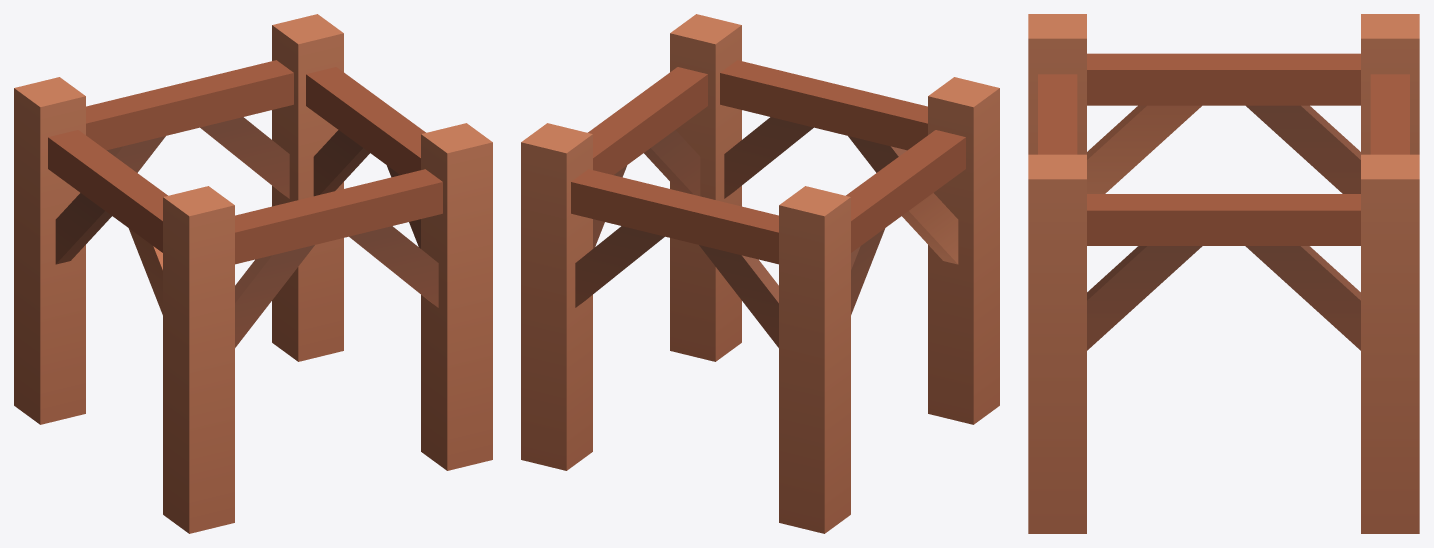
The model's file is building-structure.obj.
The picture shows the model from 3 angles, left to right: view 1: azimuth 30°, elevation 25°; view 2: azimuth 150°, elevation 25°; view 3: azimuth 270°, elevation 25°; orthographic projection. The views are drawn at different scales.
Visible parts, largest first — view 1: building-structure; view 2: building-structure; view 3: building-structure.
Part boxes in pixels (x1,y1,x2,y2): building-structure: (14,14,492,533); building-structure: (521,14,999,533); building-structure: (1028,14,1419,533).
Bounding box in the file's own units: 1 × 1 × 1.
Materials: 1 (1 with a texture image).
